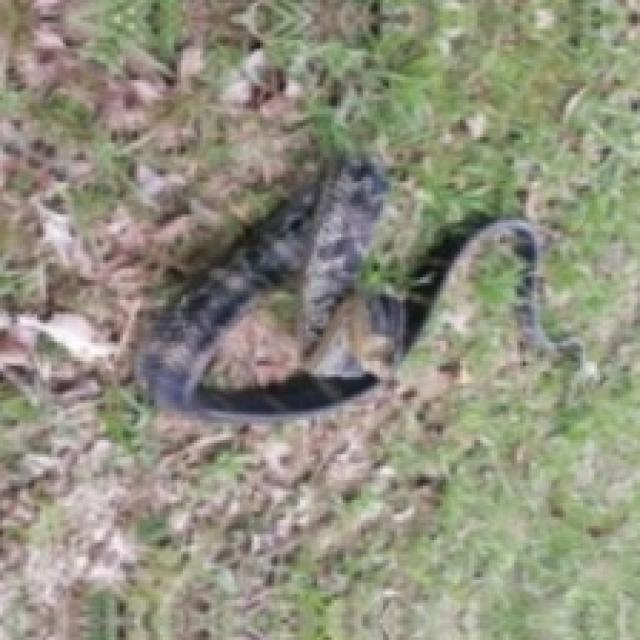dog-toothed cat snake: (138, 160, 581, 421)
